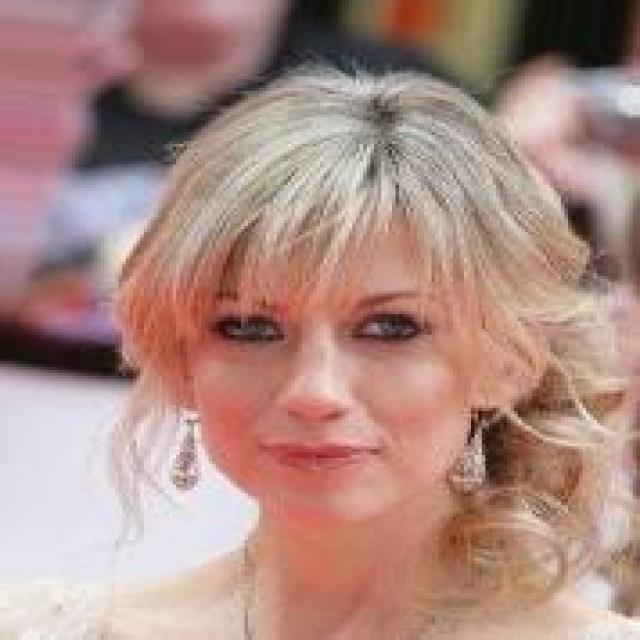nomask: (104, 32, 550, 570)
